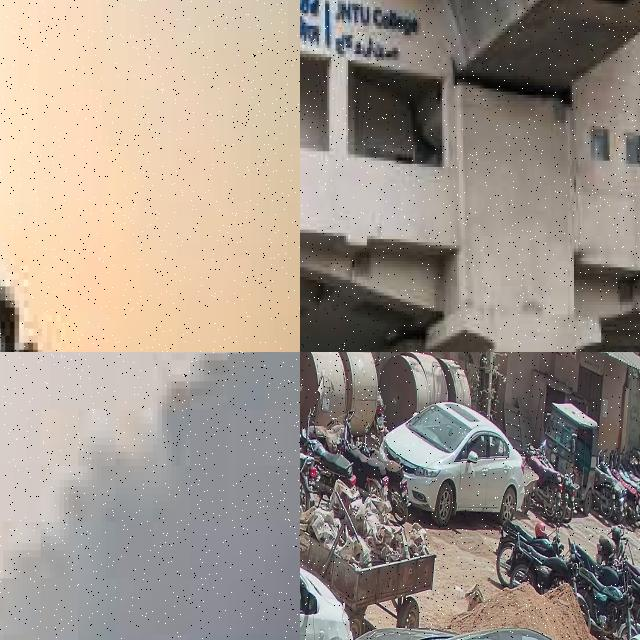bike: (0, 209, 121, 352), (356, 422, 411, 524), (300, 408, 355, 507), (494, 516, 560, 587), (506, 532, 578, 596), (336, 415, 388, 503), (578, 561, 635, 640), (573, 540, 628, 593), (526, 443, 562, 521), (309, 411, 355, 452), (300, 415, 316, 519), (596, 525, 628, 567), (594, 467, 615, 519), (624, 559, 640, 598), (631, 579, 640, 635)
car: (380, 402, 524, 526)
